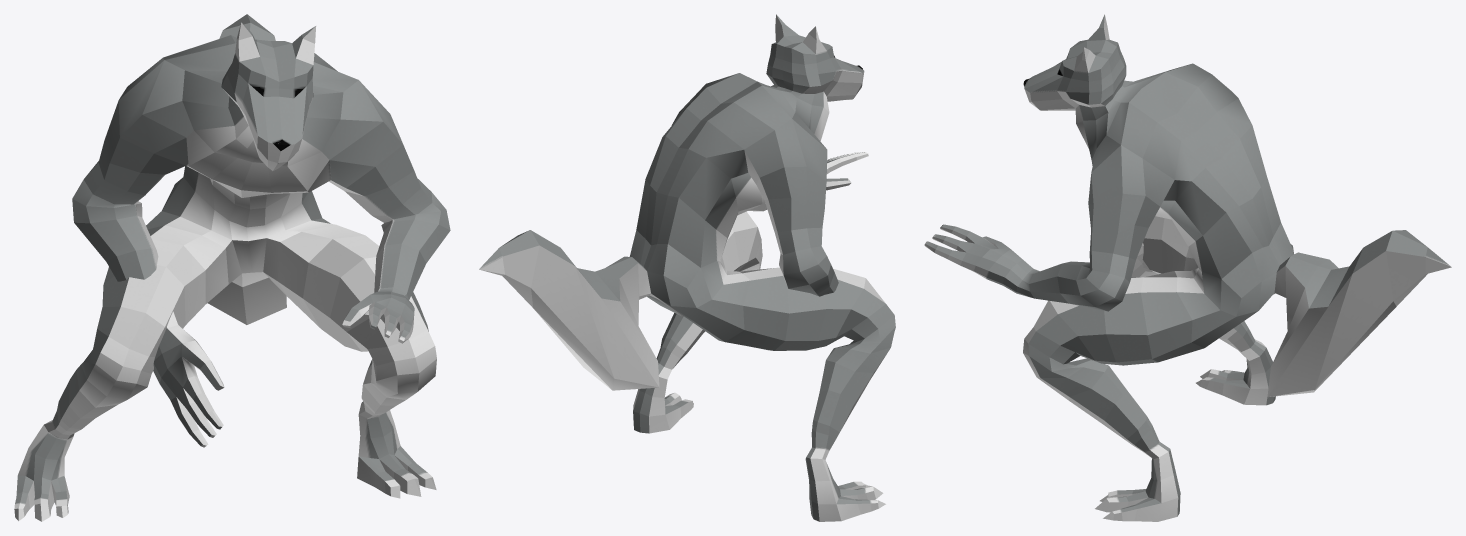
File: WolfAttack(82).obj
3 views of the same model, side by side, from view 1: azimuth 30°, elevation 25°; view 2: azimuth 150°, elevation 25°; view 3: azimuth 270°, elevation 25° (orthographic). The views are drawn at different scales.
Parts seen in each view (by area): view 1: Box001; view 2: Box001; view 3: Box001.
Boxes of the visible parts, x1,y1,x2,y2 form: Box001: (14,14,450,521); Box001: (479,14,895,521); Box001: (924,14,1451,521).
Bounding box in the file's own units: 81.53 × 110 × 123.
